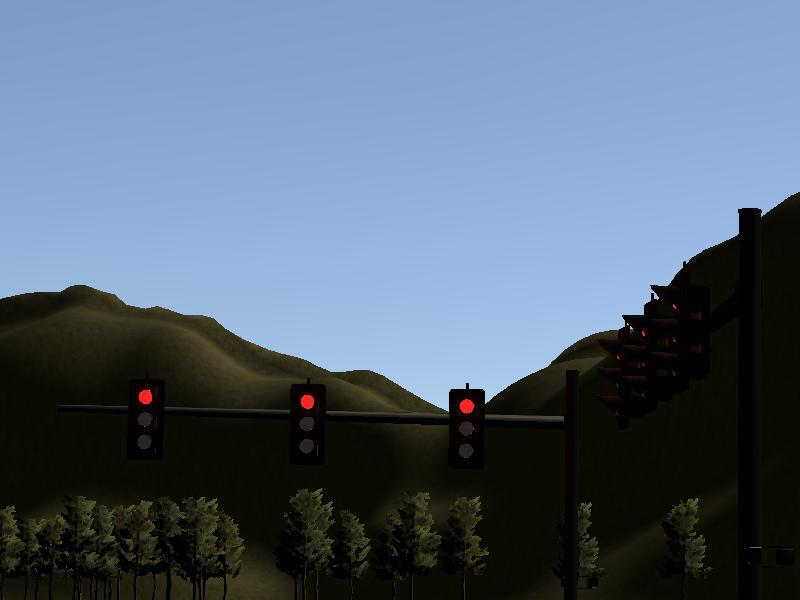Red: (127, 383, 166, 461), (290, 383, 324, 467), (452, 390, 485, 470)
